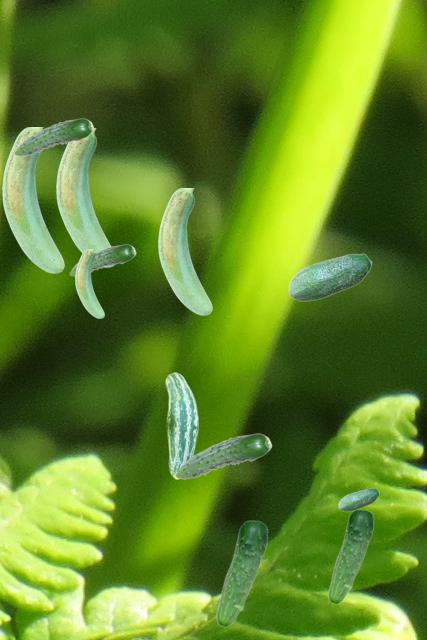cucumber: (2, 127, 63, 272), (56, 128, 111, 252), (158, 188, 211, 314), (215, 520, 267, 626), (327, 509, 373, 603), (175, 433, 271, 478), (288, 253, 371, 300), (165, 372, 197, 478), (14, 118, 93, 155), (69, 244, 135, 275), (75, 249, 103, 317), (338, 488, 378, 510)
